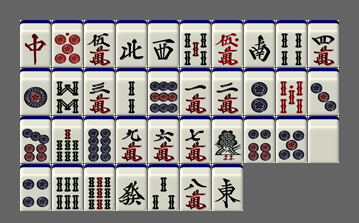0m: (212, 20, 243, 67)
0p: (52, 20, 83, 67)
0s: (276, 68, 307, 115)
1m: (180, 68, 211, 115)
1p: (20, 68, 51, 115)
1s: (212, 116, 243, 163)
1z: (212, 164, 243, 211)
2m: (212, 68, 243, 115)
2p: (244, 68, 275, 115)
2s: (116, 68, 147, 115)
2z: (244, 20, 275, 67)
3m: (84, 68, 115, 115)
3p: (308, 68, 339, 115)
3s: (148, 164, 179, 211)
3z: (148, 20, 179, 67)
4m: (308, 20, 339, 67)
4p: (20, 164, 51, 211)
4s: (276, 20, 307, 67)
4z: (116, 20, 147, 67)
5m: (84, 20, 115, 67)
5p: (276, 116, 307, 163)
5s: (180, 20, 211, 67)
5z: (308, 116, 339, 163)
6m: (148, 116, 179, 163)
6p: (244, 116, 275, 163)
6s: (52, 164, 83, 211)
6z: (116, 164, 147, 211)
7m: (180, 116, 211, 163)
7p: (20, 116, 51, 163)
7s: (52, 116, 83, 163)
7z: (20, 20, 51, 67)
8m: (180, 164, 211, 211)
8p: (84, 116, 115, 163)
8s: (52, 68, 83, 115)
9m: (116, 116, 147, 163)
9p: (148, 68, 179, 115)
9s: (84, 164, 115, 211)
